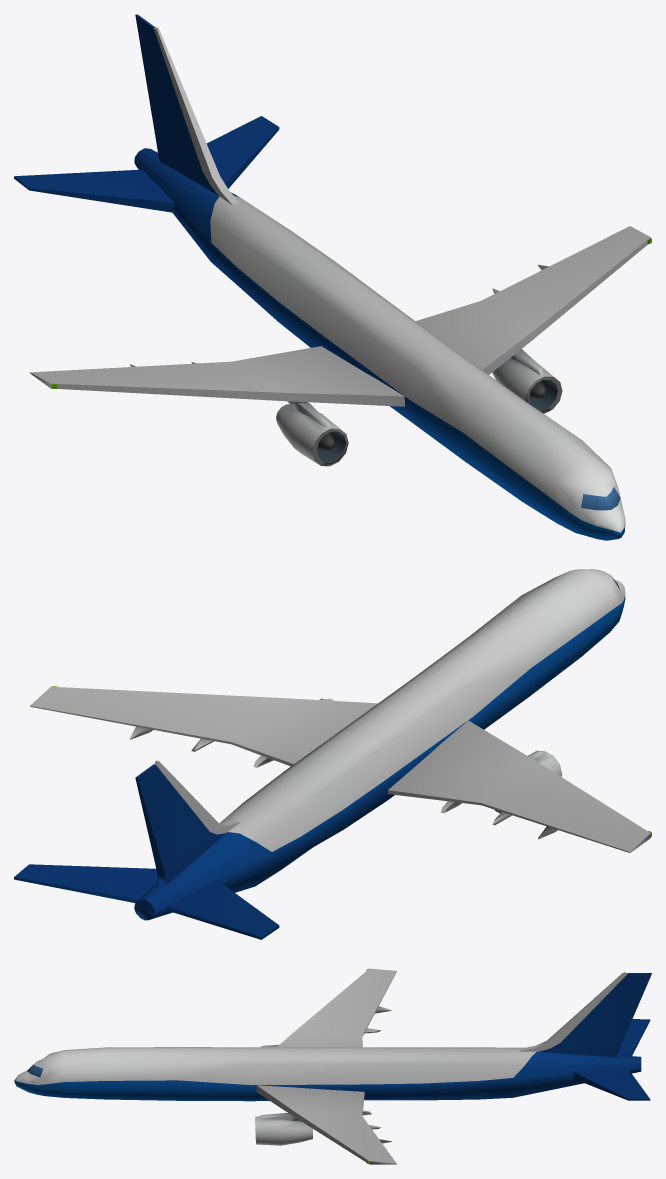
Rendered from vehicles-aircraft-airliner_v2.glb.
3 views of the same model, one above another, from view 1: azimuth 30°, elevation 25°; view 2: azimuth 150°, elevation 25°; view 3: azimuth 270°, elevation 25° (orthographic). The views are drawn at different scales.
Parts seen in each view (by area): view 1: Airliner_v2.001; view 2: Airliner_v2.001; view 3: Airliner_v2.001.
Part boxes in pixels (<box>): Airliner_v2.001: <box>14,14,651,540</box>; Airliner_v2.001: <box>14,569,651,939</box>; Airliner_v2.001: <box>14,968,651,1164</box>.
Bounding box in the file's own units: 33.62 × 11.2 × 47.
